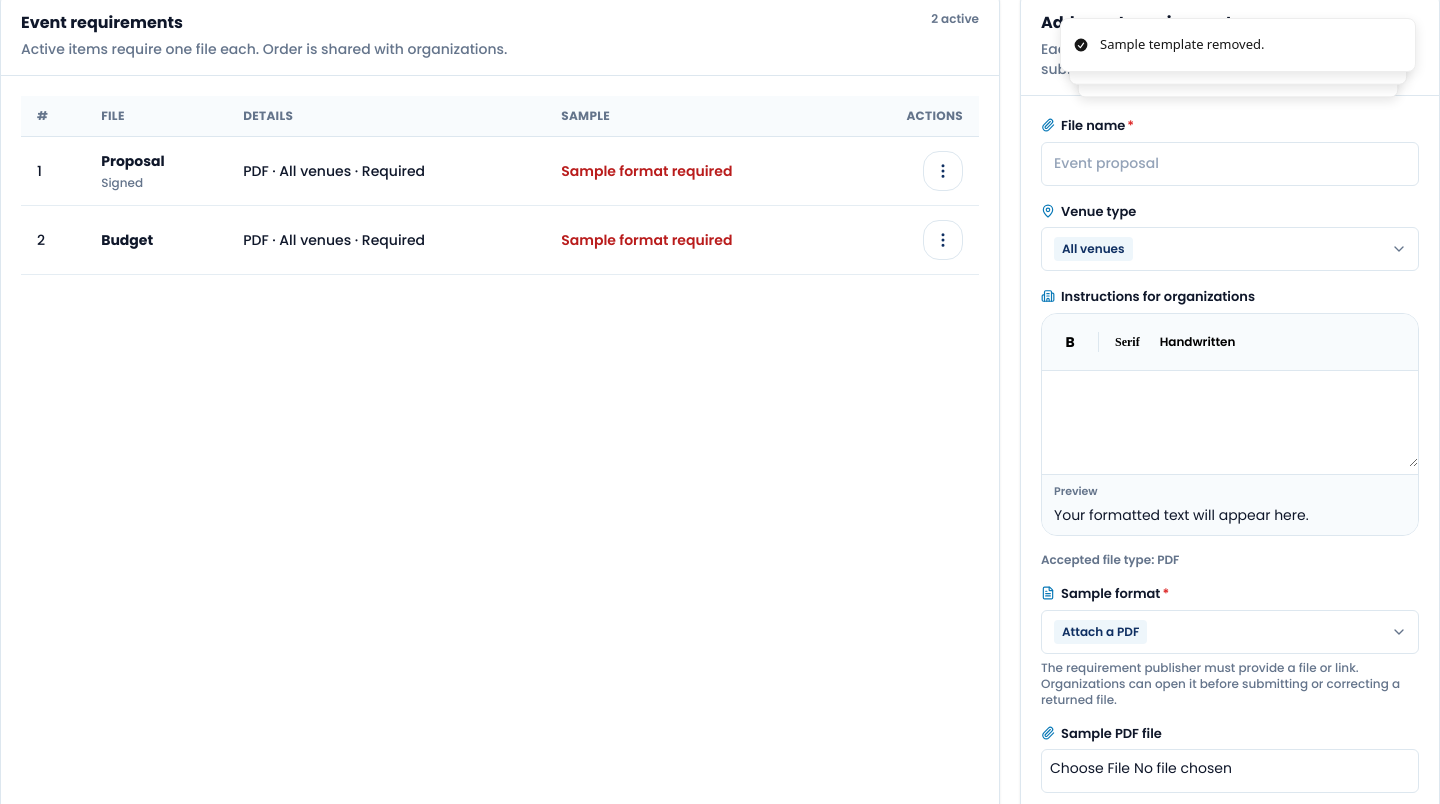
Test: EventRequirementsTab › does not create an event requirement without a sample
The image size is (1440, 804).
Type "Permit" into the field with placeholder "Event proposal" at x=1230, y=164, box [1041,142,1419,186]
(page scrolled)
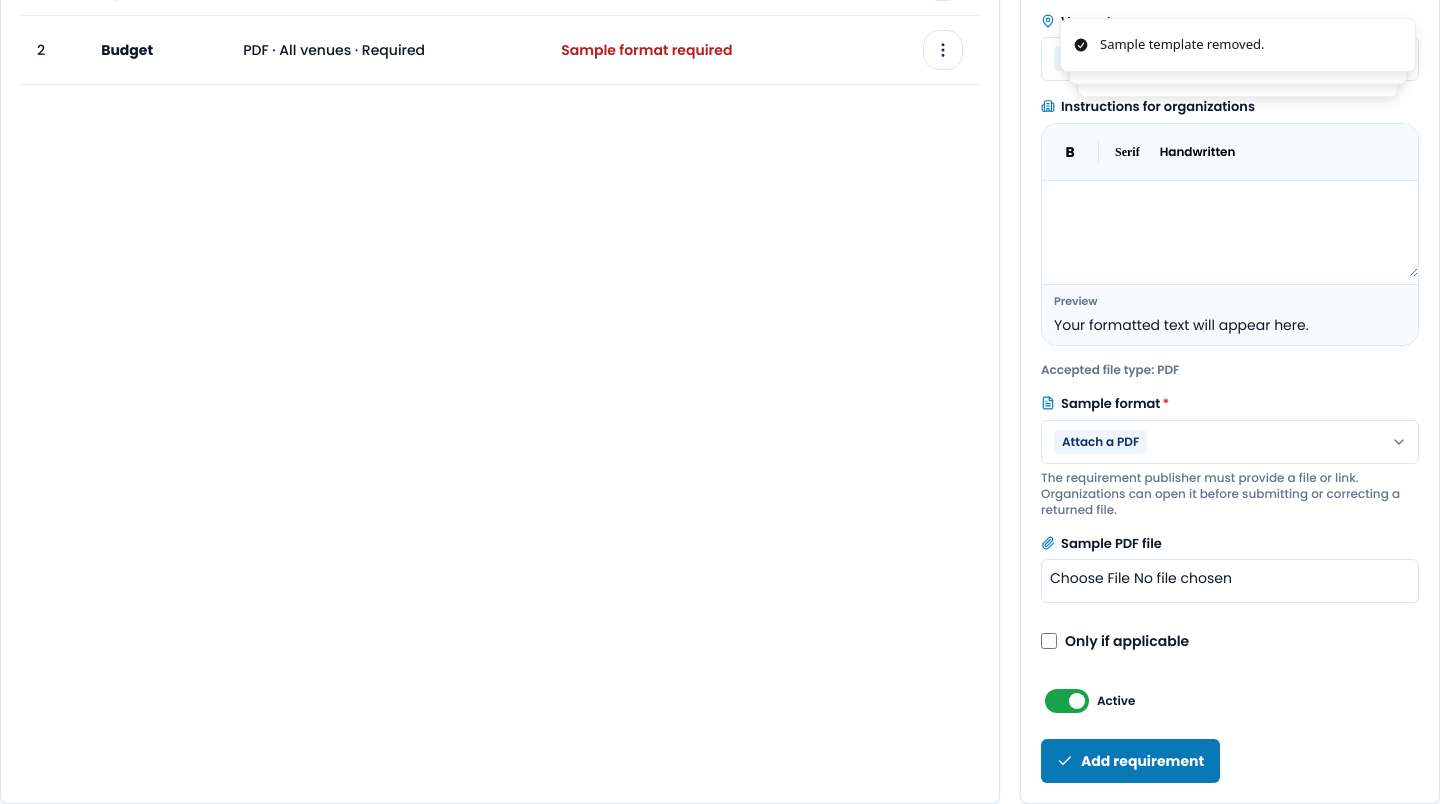
Click the button "Add requirement" at x=1131, y=761, box [1041,739,1220,783]
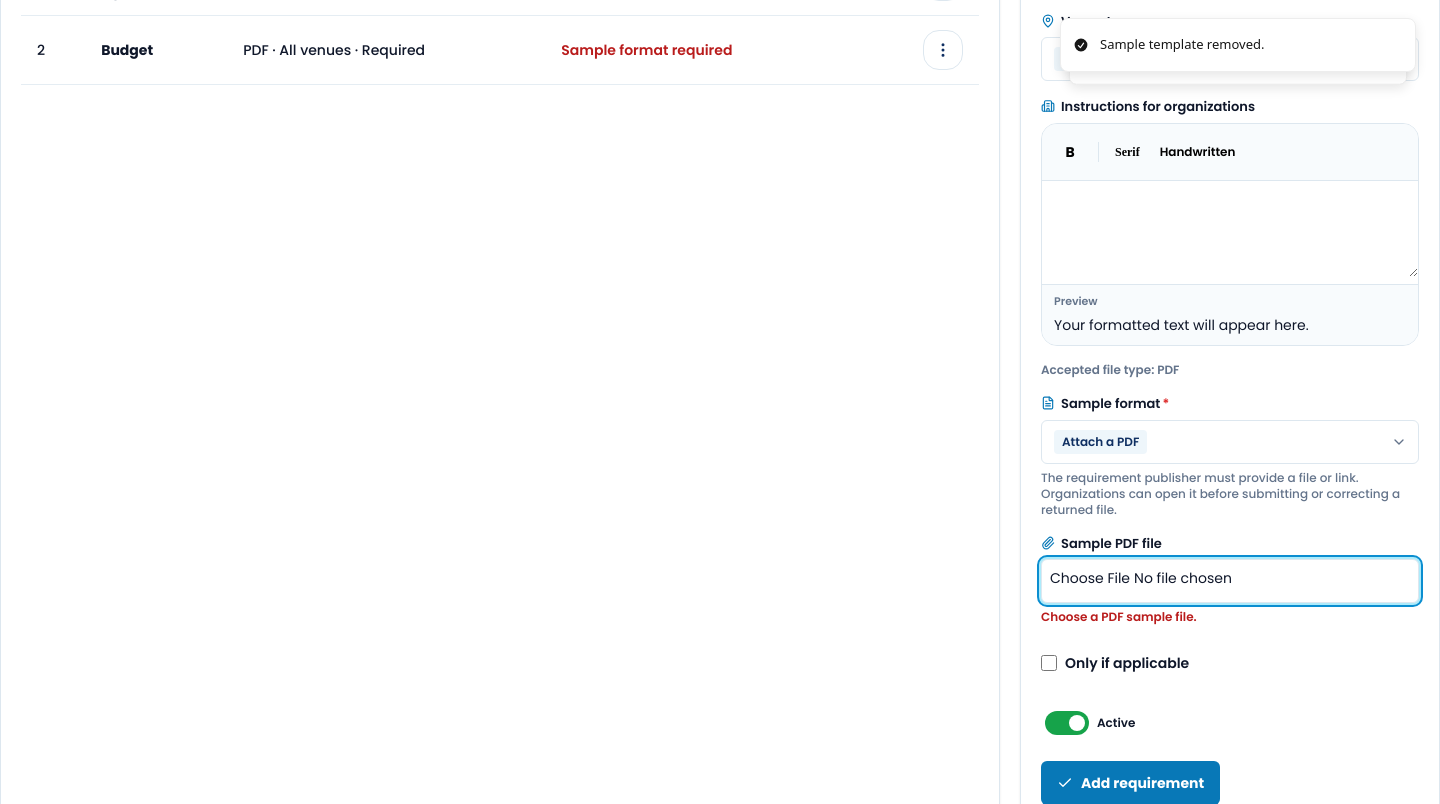
Now the text "Choose a PDF sample file." is shown, box [1041,608,1197,625]
